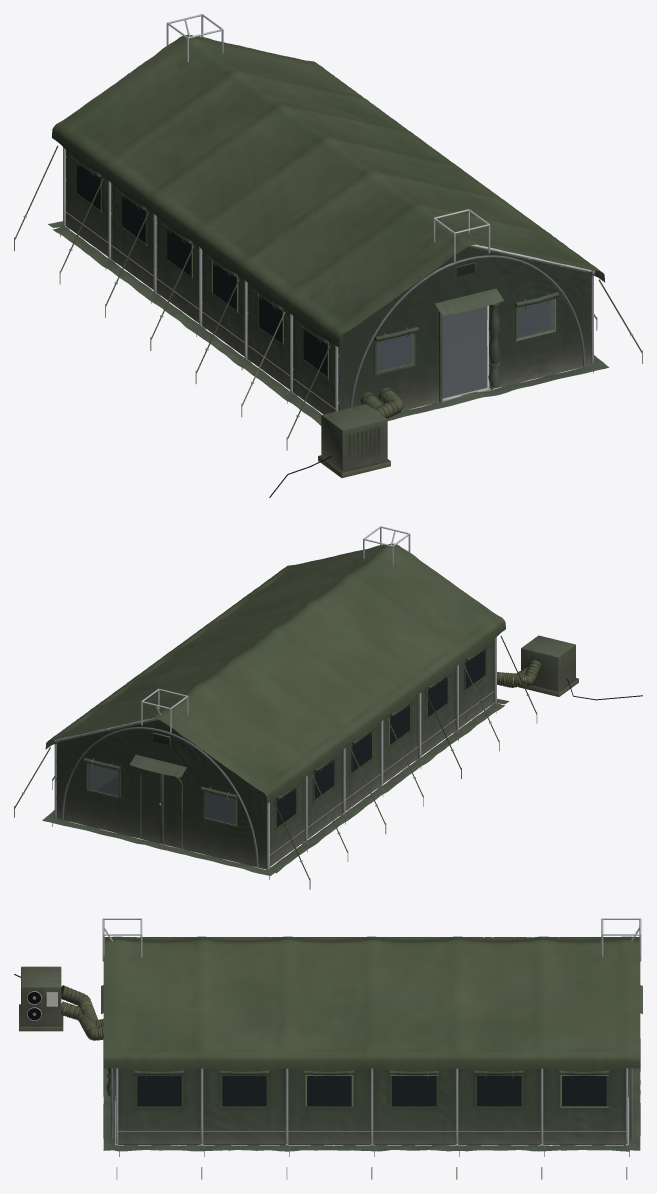
The model's file is rdmss-ar.glb.
3 views of the same model, one above another, from view 1: azimuth 30°, elevation 25°; view 2: azimuth 150°, elevation 25°; view 3: azimuth 270°, elevation 25° (orthographic). The views are drawn at different scales.
Parts seen in each view (by area): view 1: RDMSS_solar_shade, RDMSS_shelter, RDMSS_frame; view 2: RDMSS_solar_shade, RDMSS_shelter, RDMSS_frame; view 3: RDMSS_solar_shade, RDMSS_shelter, RDMSS_frame.
Boxes of the visible parts, x1,y1,x2,y2 form: RDMSS_solar_shade: (14, 34, 642, 450); RDMSS_shelter: (48, 150, 609, 497); RDMSS_frame: (60, 14, 595, 411); RDMSS_solar_shade: (14, 543, 537, 889); RDMSS_shelter: (42, 635, 642, 875); RDMSS_frame: (52, 526, 496, 879); RDMSS_solar_shade: (103, 936, 640, 1179); RDMSS_shelter: (14, 966, 642, 1151); RDMSS_frame: (102, 918, 641, 1156).
Bounding box in the file's own units: 10.37 × 4.26 × 14.1.
Materials: 20 (9 with a texture image).
